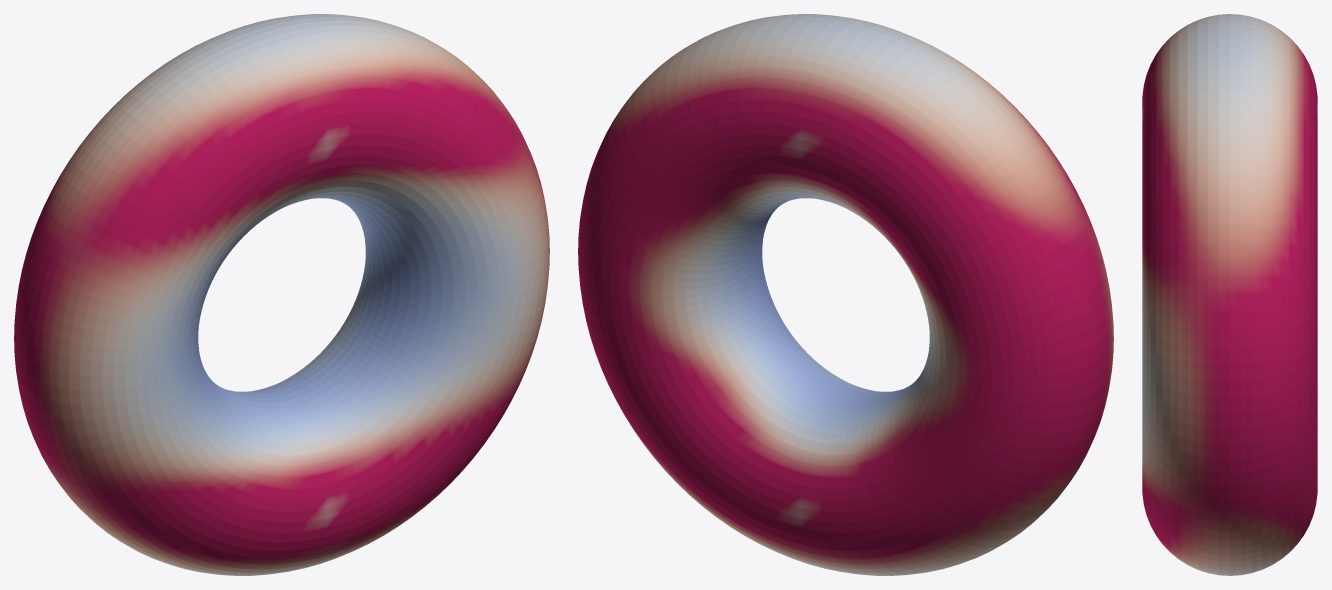
3 renders of one model, left to right at view 1: azimuth 30°, elevation 25°; view 2: azimuth 150°, elevation 25°; view 3: azimuth 270°, elevation 25°, orthographic. The views are drawn at different scales.
Parts seen in each view (by area): view 1: world; view 2: world; view 3: world.
Part boxes in pixels (box(x1,y1,x2,y2)): world: box(14, 14, 549, 575); world: box(578, 14, 1113, 575); world: box(1142, 14, 1317, 575).
Bounding box in the file's own units: 25.2 × 25.2 × 7.85.
